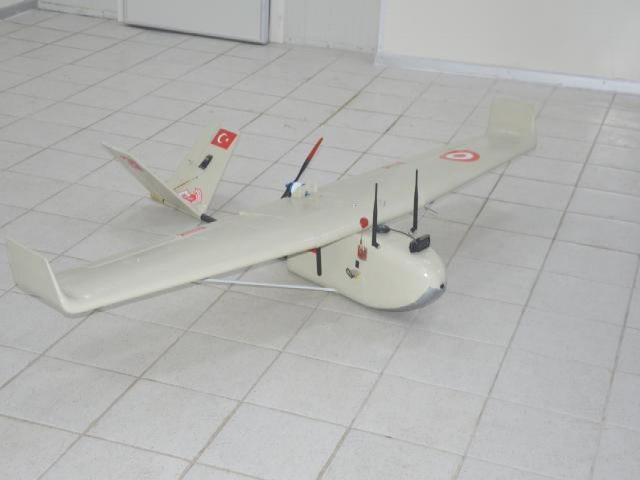iha: (1, 85, 567, 312)
